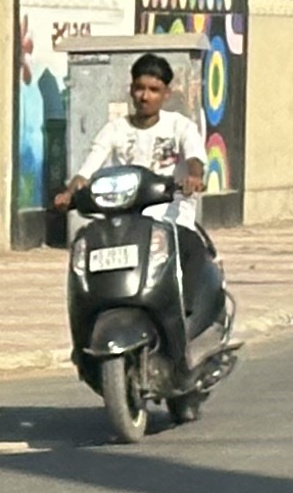BikeWithRider: (45, 46, 250, 448)
NoHelmet: (118, 48, 179, 120)
